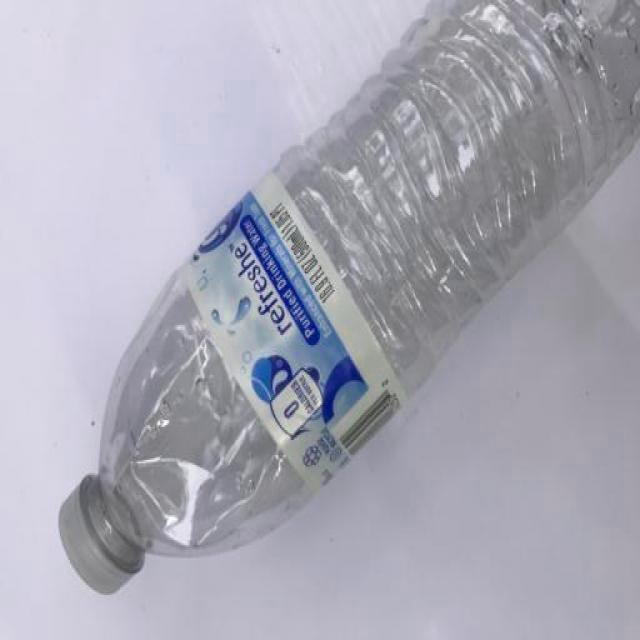bottle: (59, 0, 639, 596)
